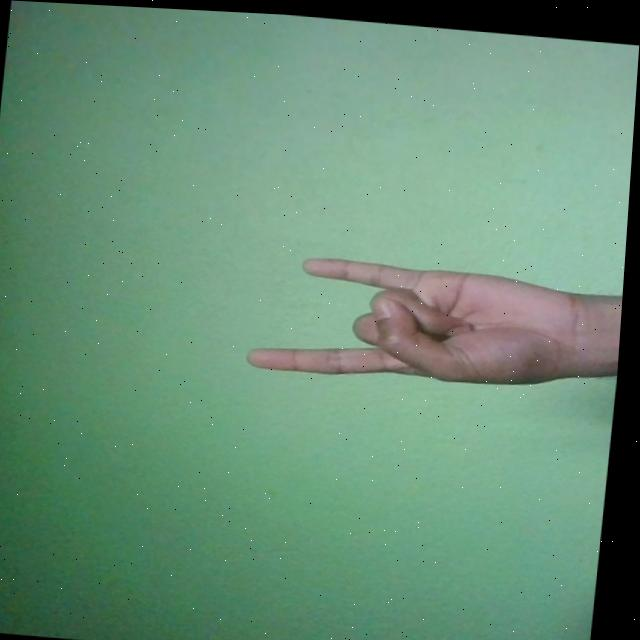Rock On: (250, 245, 603, 389)
